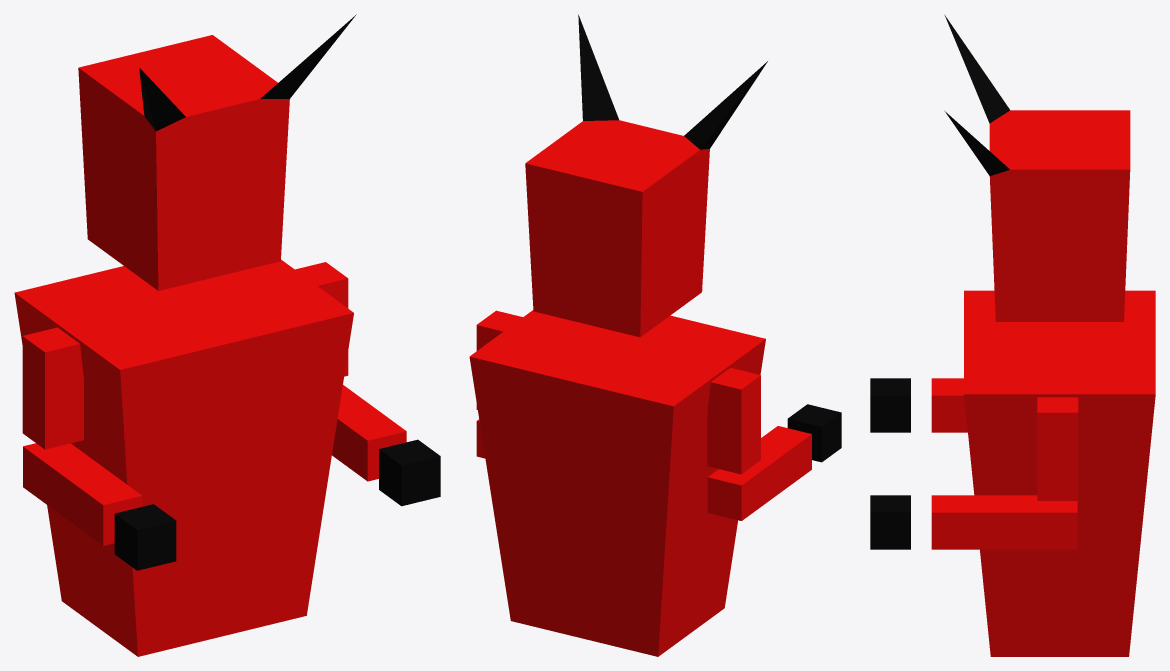
File: Devil.fbx
3 views of the same model, side by side, from view 1: azimuth 30°, elevation 25°; view 2: azimuth 150°, elevation 25°; view 3: azimuth 270°, elevation 25° (orthographic). The views are drawn at different scales.
Parts seen in each view (by area): view 1: Body, Head, Arms; view 2: Body, Head, Arms; view 3: Body, Head, Arms.
Boxes of the visible parts, <box> form: Body: <box>14,259,353,656</box>; Head: <box>78,14,356,290</box>; Arms: <box>22,262,440,570</box>; Body: <box>469,310,765,656</box>; Head: <box>525,14,767,337</box>; Arms: <box>476,310,841,520</box>; Body: <box>964,290,1155,656</box>; Head: <box>944,15,1130,321</box>; Arms: <box>870,378,1078,549</box>.
Bounding box in the file's own units: 215 × 463 × 239.
